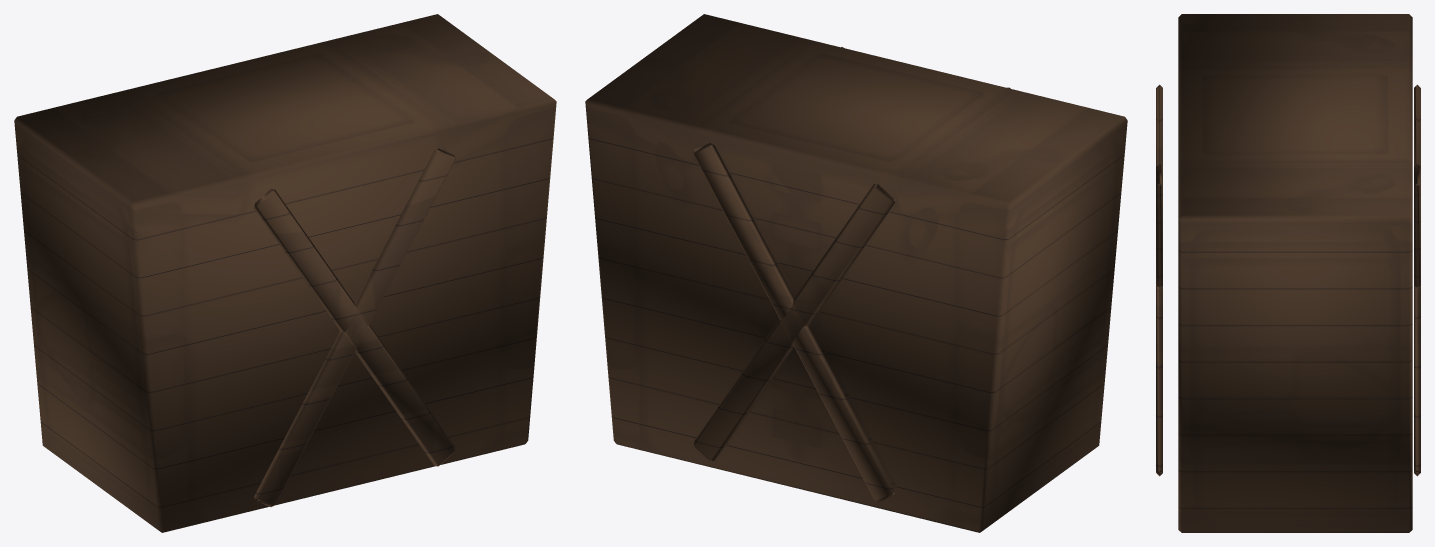
Rendered from Remache_Arnes.fbx.
3 renders of one model, left to right at view 1: azimuth 30°, elevation 25°; view 2: azimuth 150°, elevation 25°; view 3: azimuth 270°, elevation 25°, orthographic. The views are drawn at different scales.
Visible parts, largest first — view 1: Remache_Arnes; view 2: Remache_Arnes; view 3: Remache_Arnes.
Part boxes in pixels (bbox=[...]): Remache_Arnes: bbox=[14, 14, 556, 532]; Remache_Arnes: bbox=[585, 14, 1127, 532]; Remache_Arnes: bbox=[1156, 14, 1420, 532].
Size of the model in its own units: 3.68 by 2.79 by 2.02.
